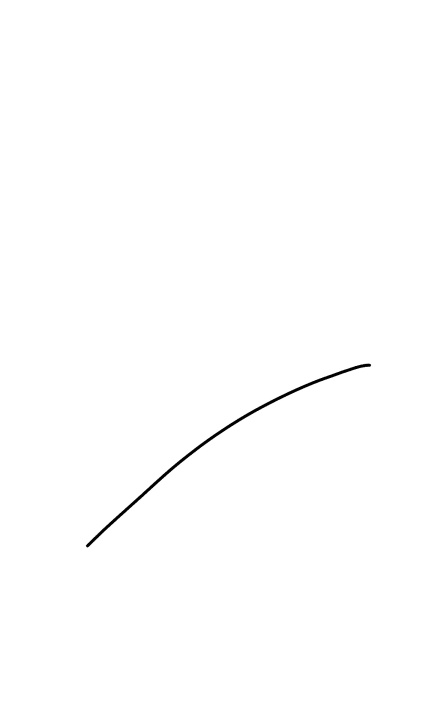Line: (83, 357, 380, 552)
